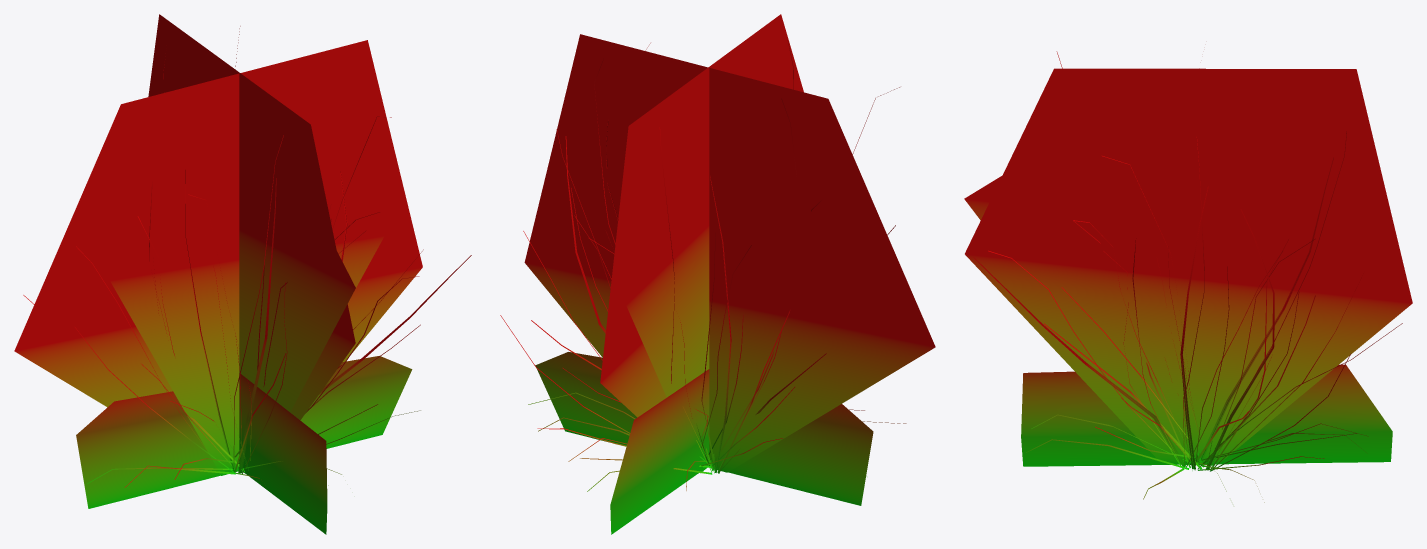
The model's file is Xeric Grass_LOD4_Var4_xjfgdhaqx.fbx.
3 renders of one model, left to right at view 1: azimuth 30°, elevation 25°; view 2: azimuth 150°, elevation 25°; view 3: azimuth 270°, elevation 25°, orthographic.
Visible parts, largest first — view 1: _qwk5_Var4_LOD4; view 2: _qwk5_Var4_LOD4; view 3: _qwk5_Var4_LOD4.
Part boxes in pixels (x1,y1,x2,y2): _qwk5_Var4_LOD4: (14,14,471,534); _qwk5_Var4_LOD4: (500,14,935,534); _qwk5_Var4_LOD4: (964,51,1412,502).
Bounding box in the file's own units: 199 × 187 × 190.
